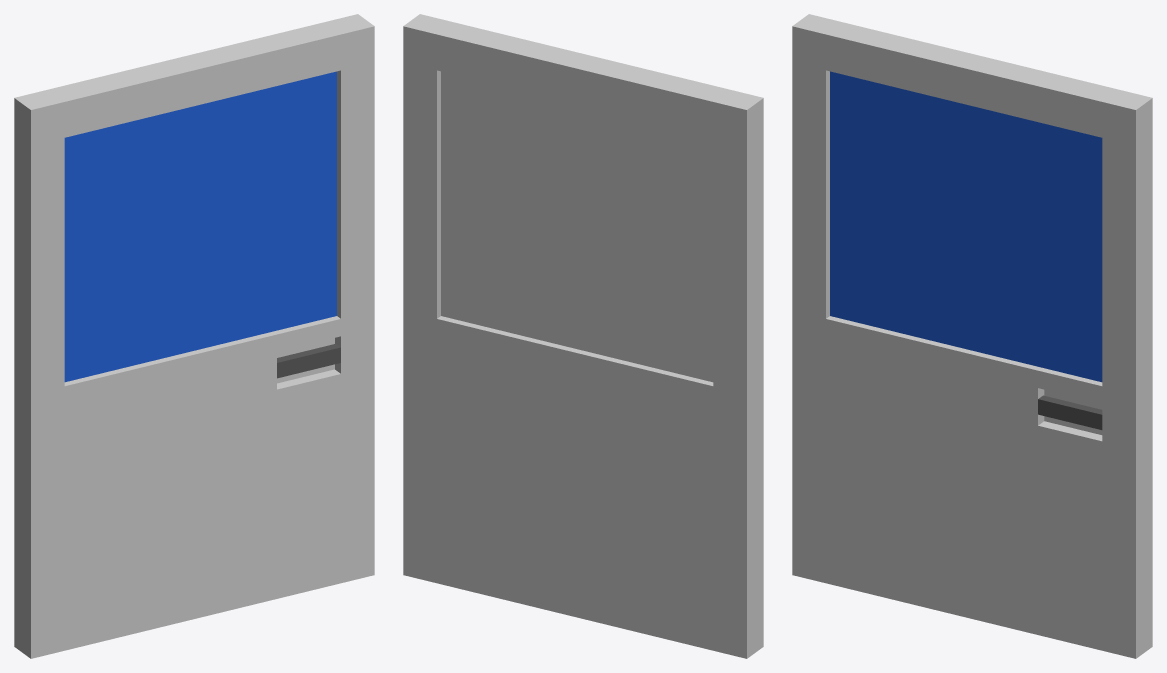
Rendered from SM_Door.fbx.
3 views of the same model, side by side, from view 1: azimuth 30°, elevation 25°; view 2: azimuth 150°, elevation 25°; view 3: azimuth 330°, elevation 25° (orthographic).
Parts seen in each view (by area): view 1: Cube.002; view 2: Cube.002; view 3: Cube.002.
Boxes of the visible parts, <box> form: Cube.002: <box>14,14,374,658</box>; Cube.002: <box>403,14,763,658</box>; Cube.002: <box>792,14,1152,658</box>.
Bounding box in the file's own units: 156 × 238 × 13.21.
